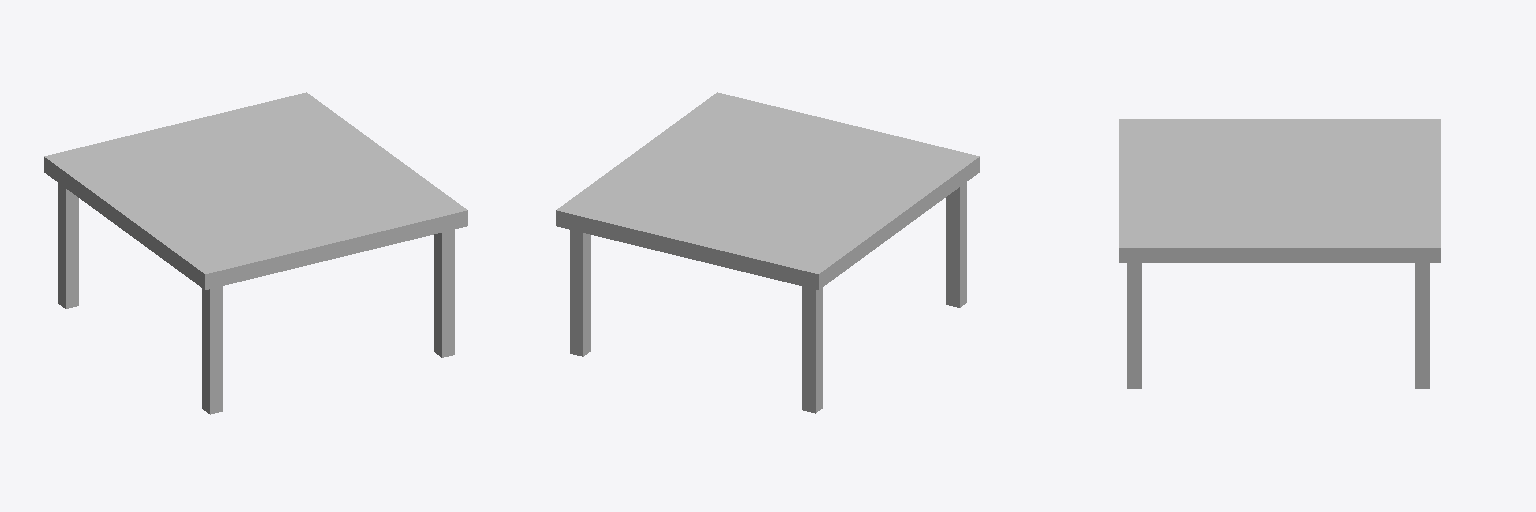
Rendered from Table 2.obj.
3 views of the same model, side by side, from view 1: azimuth 30°, elevation 25°; view 2: azimuth 150°, elevation 25°; view 3: azimuth 270°, elevation 25° (orthographic).
Parts seen in each view (by area): view 1: Table_2; view 2: Table_2; view 3: Table_2.
Part boxes in pixels (left/top/right/bottom): Table_2: left=44, top=92, right=467, bottom=414; Table_2: left=556, top=92, right=979, bottom=413; Table_2: left=1119, top=119, right=1440, bottom=388.
Size of the model in its own units: 2 by 1.06 by 2.13.